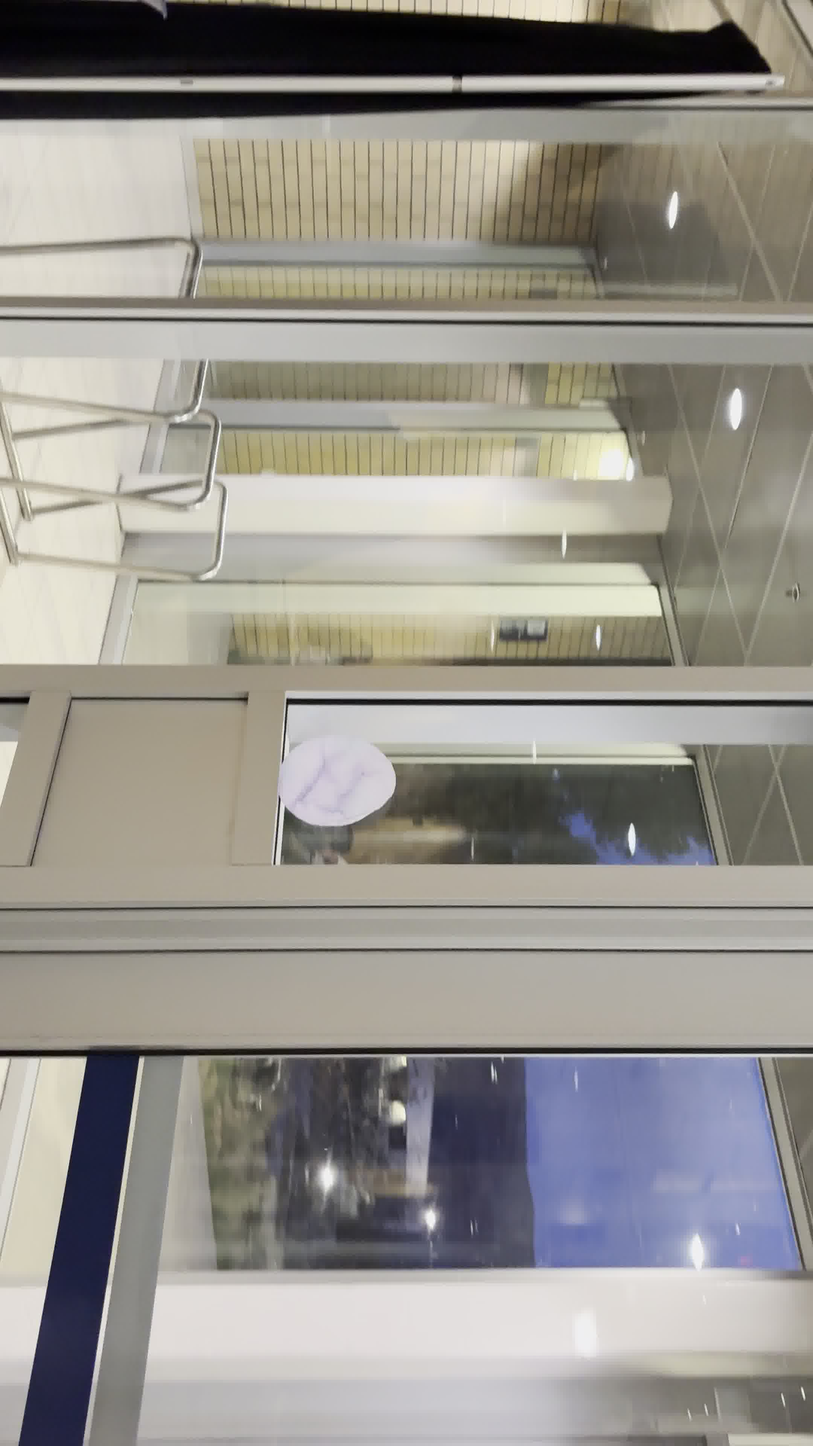Target: (277, 733, 398, 829)
